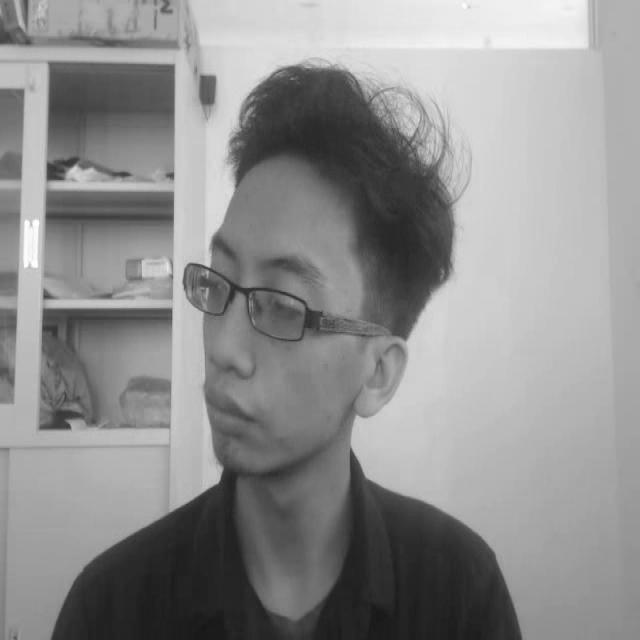real: (177, 41, 475, 483)
